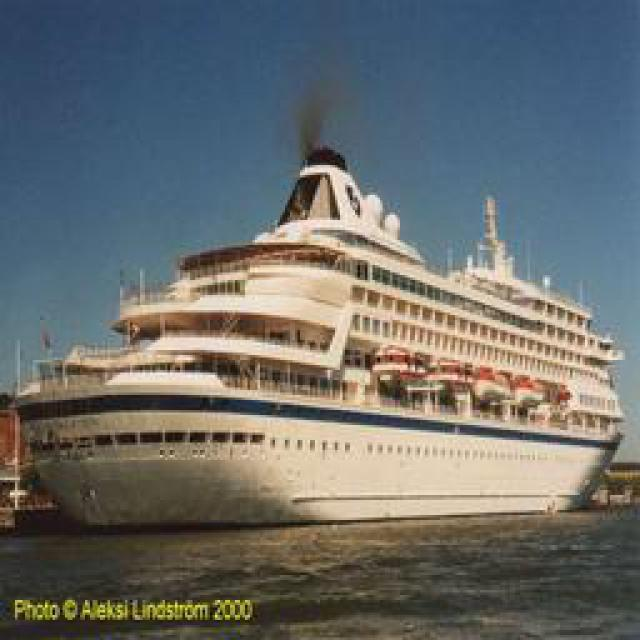Ship: (15, 150, 628, 533)
